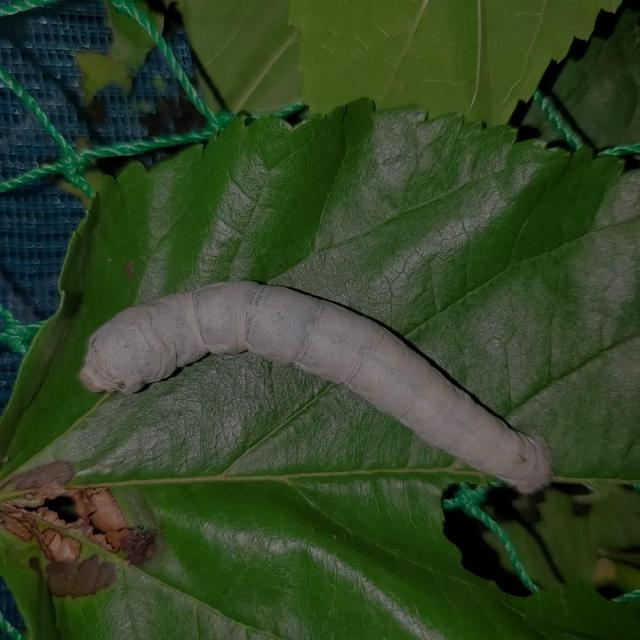Healthy: (56, 230, 565, 512)
